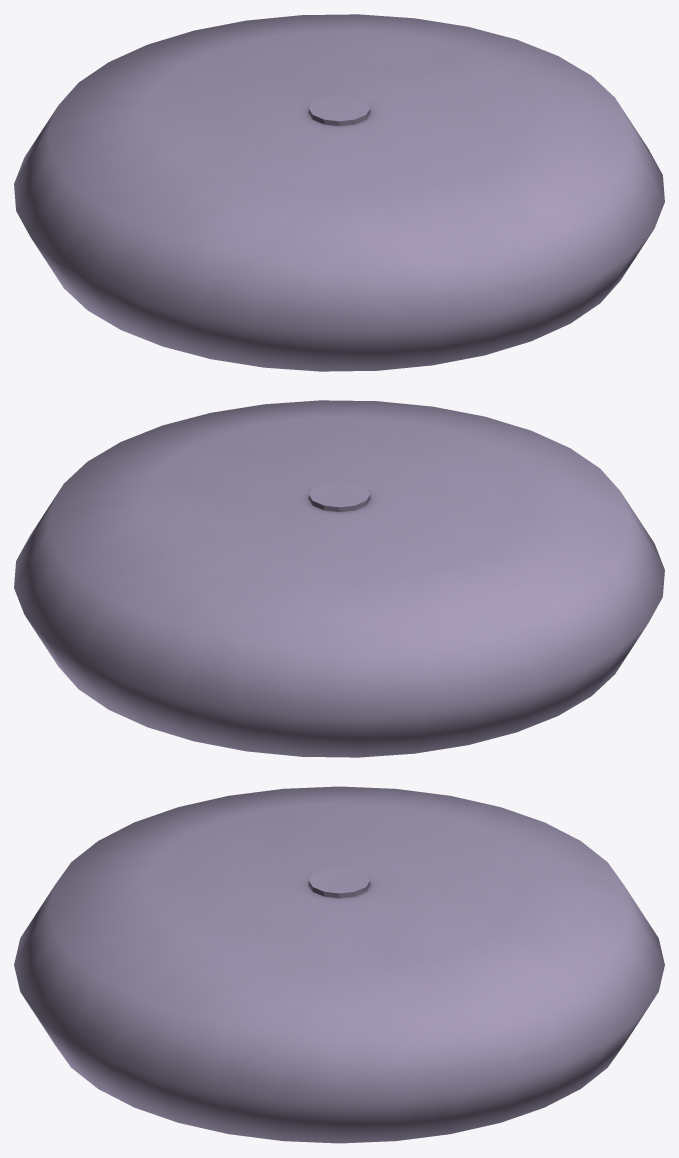
File: floor-cushion.glb
3 renders of one model, top to bottom at view 1: azimuth 30°, elevation 25°; view 2: azimuth 150°, elevation 25°; view 3: azimuth 270°, elevation 25°, orthographic.
Parts seen in each view (by area): view 1: floor-cushion; view 2: floor-cushion; view 3: floor-cushion.
Boxes of the visible parts, x1,y1,x2,y2 form: floor-cushion: (14, 14, 664, 371); floor-cushion: (14, 400, 664, 757); floor-cushion: (14, 786, 664, 1143).
Size of the model in its own units: 0.74 by 0.206 by 0.74.
1 material, 1 textured.
